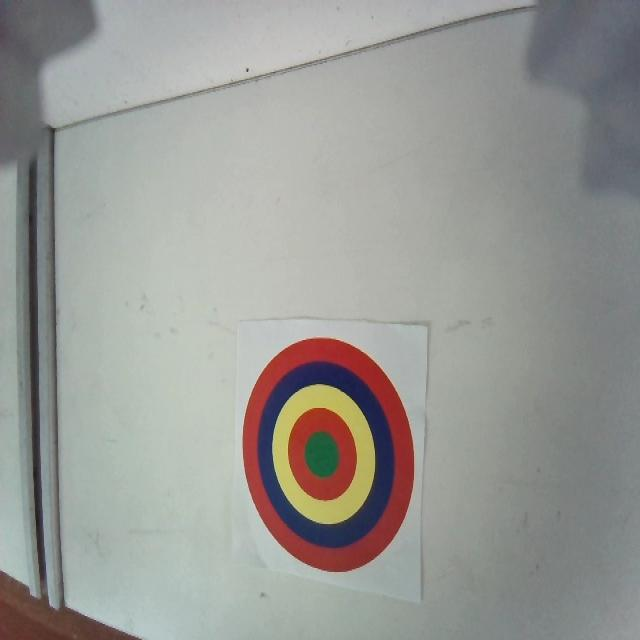cogn: (243, 335, 416, 572)
